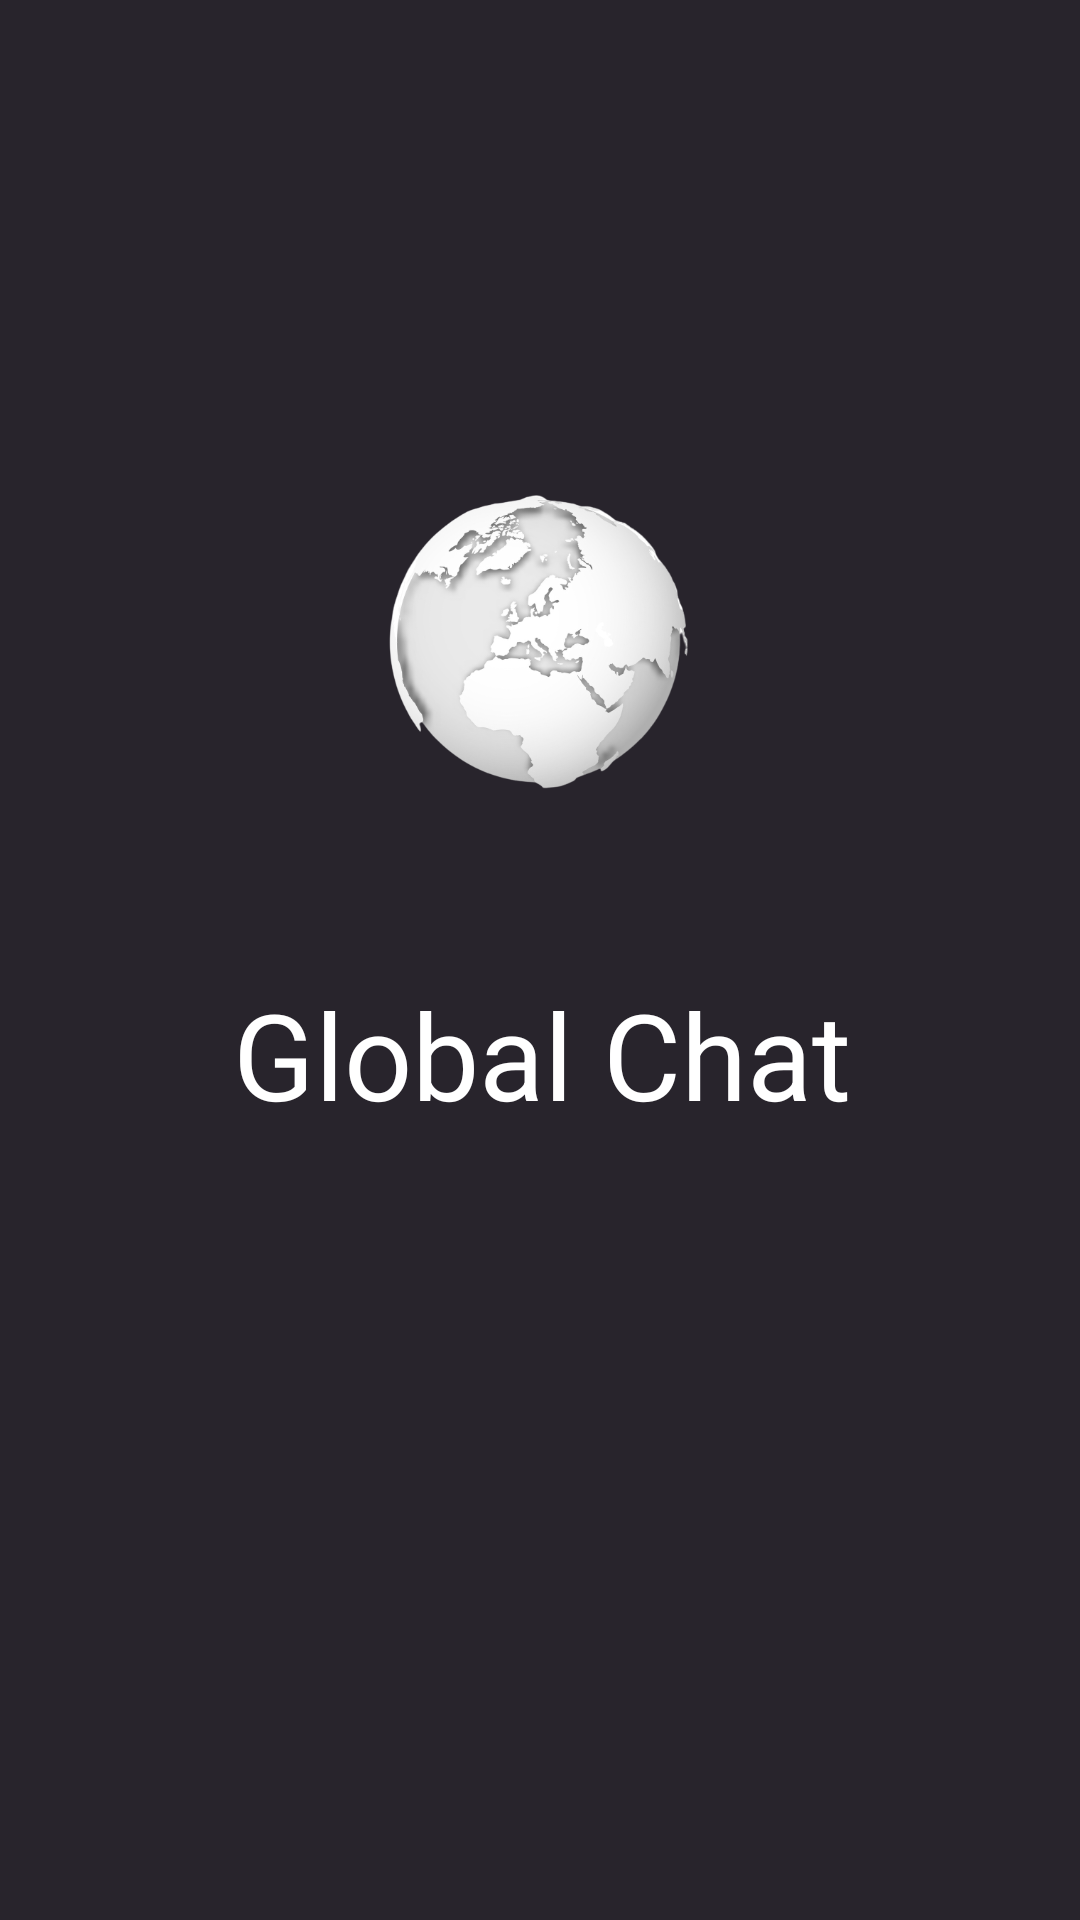

Icon bounding boxes for this 1080 x 1920 phone screenshot, format (x1, y1, x2, y2):
globe: (389, 495, 688, 788)
